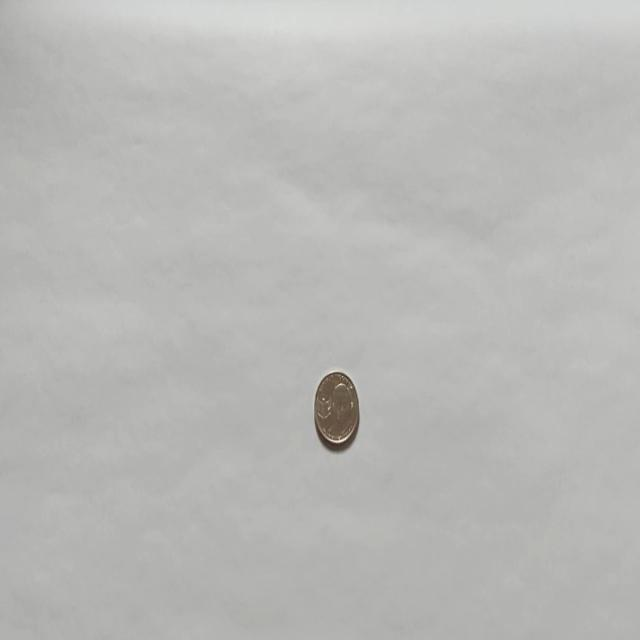seribu rupiah koin: (312, 368, 360, 448)
